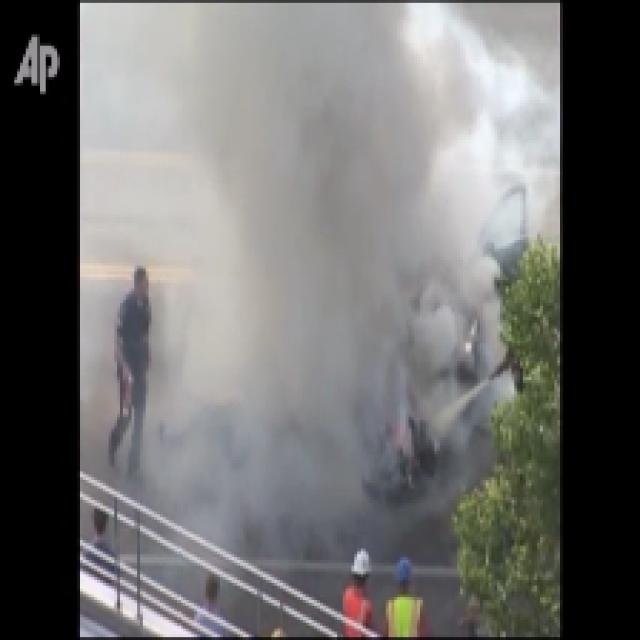smoke: (175, 29, 490, 503)
